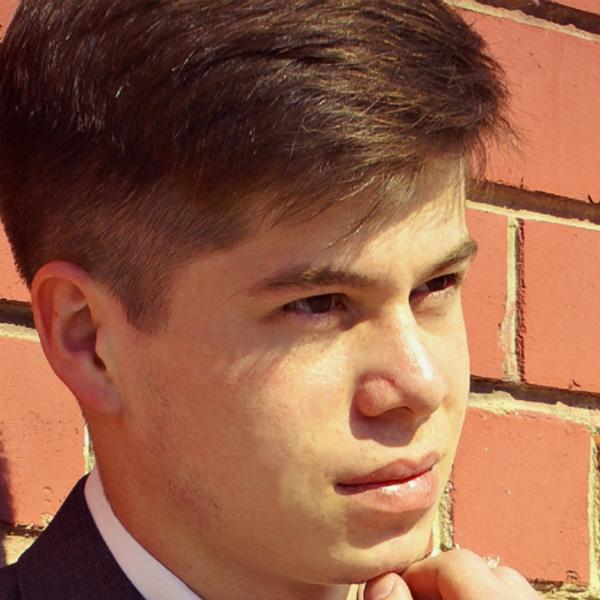Eyes: (270, 282, 360, 331), (404, 262, 469, 313)
